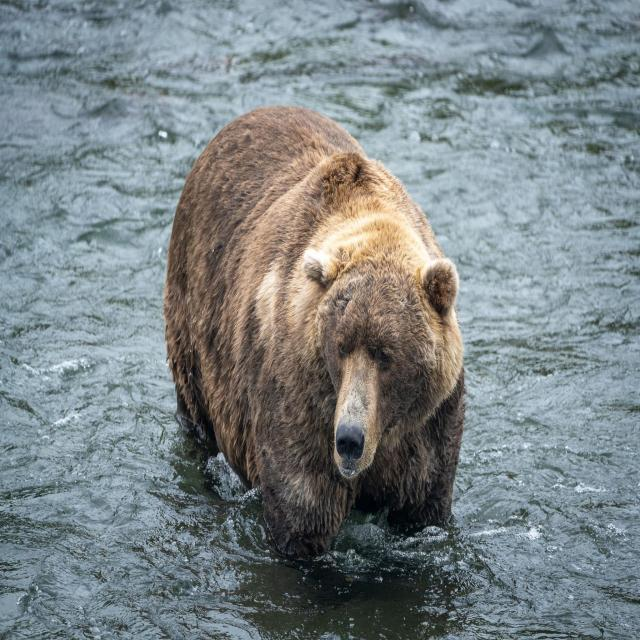Bear: (162, 105, 468, 567)
